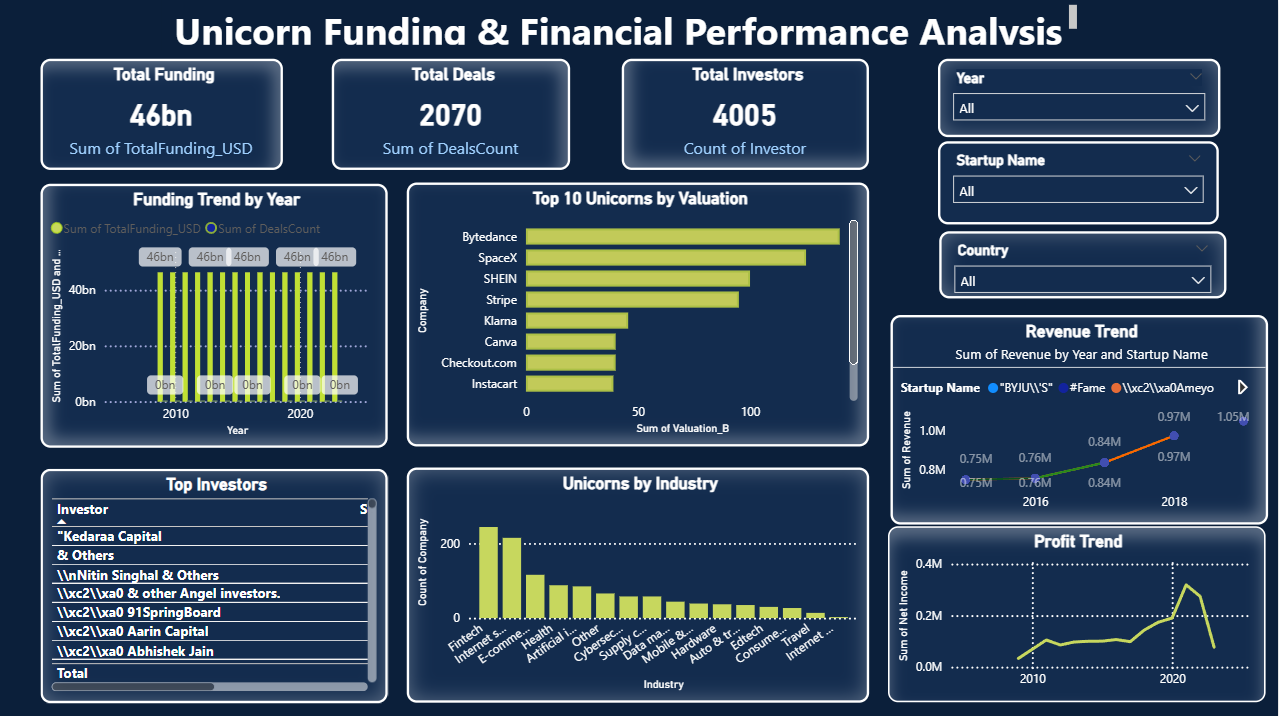

The dashboard page shown, as its layout file describes it:
{"tool":"powerbi","page":{"name":"Unicorn Funding & Financial Performance Analysis”","canvas":[1280,720],"ordinal":0},"visuals":[{"type":"textbox","box":[163.8,0,920,50],"z":0},{"type":"card","title":"Total Funding","fields":{"Values":["companyYearFunding.TotalFunding_USD"]},"box":[42.5,58.8,242.5,111.2],"z":1000},{"type":"card","title":"Total Deals","fields":{"Values":["companyYearFunding.DealsCount"]},"box":[333.8,58.8,238.8,111.2],"z":2000},{"type":"card","title":"Total Investors","fields":{"Values":["investoryearsummary.Investor"]},"box":[623.8,58.8,247.5,111.2],"z":3000},{"type":"clusteredBarChart","title":"Top 10 Unicorns by Valuation","fields":{"Category":["unicorn master.Company"],"Y":["unicorn master.Valuation_B"]},"box":[408.8,182.5,462.5,263.8],"z":4000},{"type":"lineClusteredColumnComboChart","title":"Funding Trend by Year","fields":{"Category":["DateTable.Year"],"Y":["companyYearFunding.TotalFunding_USD","companyYearFunding.DealsCount"]},"box":[42.2,183.4,347.5,264.2],"z":5000},{"type":"tableEx","title":"Top Investors","fields":{"Values":["investoryearsummary.Investor","investoryearsummary.TotalInvested_USD","investoryearsummary.DealsCount"]},"box":[42.2,469.3,347.5,234],"z":6000},{"type":"clusteredColumnChart","title":"Unicorns by Industry","fields":{"Category":["unicorn master.Industry"],"Y":["unicorn master.Company"]},"box":[408.8,467.5,462.5,235],"z":7000},{"type":"lineChart","title":"Revenue Trend","fields":{"Category":["DateTable.Year"],"Y":["financials.Revenue"],"Series":["Companies.Startup Name"]},"box":[892.8,314.9,377.6,209.9],"z":8000},{"type":"lineChart","title":"Profit Trend","fields":{"Category":["DateTable.Year"],"Y":["financials.Net Income"]},"box":[890,526.2,377.5,176.2],"z":9000},{"type":"slicer","fields":{"Values":["DateTable.Year"]},"box":[939.8,59.1,282.3,78.4],"z":10000},{"type":"slicer","fields":{"Values":["Companies.Startup Name"]},"box":[939.8,141.2,281.1,83.2],"z":11000},{"type":"slicer","fields":{"Values":["unicorn master.Country"]},"box":[941,231.6,287.1,67.6],"z":12000}]}

Visuals, with their boxes in screenshot pixels (x1, y1, x2, y2), scaled from the page's 1280x720 canvas onto the 1279x716 screenshot:
textbox: select_region(164, 0, 1083, 50)
"Total Funding" card: select_region(42, 58, 285, 169)
"Total Deals" card: select_region(334, 58, 572, 169)
"Total Investors" card: select_region(623, 58, 871, 169)
"Top 10 Unicorns by Valuation" clusteredBarChart: select_region(408, 181, 871, 444)
"Funding Trend by Year" lineClusteredColumnComboChart: select_region(42, 182, 389, 445)
"Top Investors" tableEx: select_region(42, 467, 389, 699)
"Unicorns by Industry" clusteredColumnChart: select_region(408, 465, 871, 699)
"Revenue Trend" lineChart: select_region(892, 313, 1269, 522)
"Profit Trend" lineChart: select_region(889, 523, 1267, 698)
slicer - DateTable.Year: select_region(939, 59, 1221, 137)
slicer - Companies.Startup Name: select_region(939, 140, 1220, 223)
slicer - unicorn master.Country: select_region(940, 230, 1227, 298)
